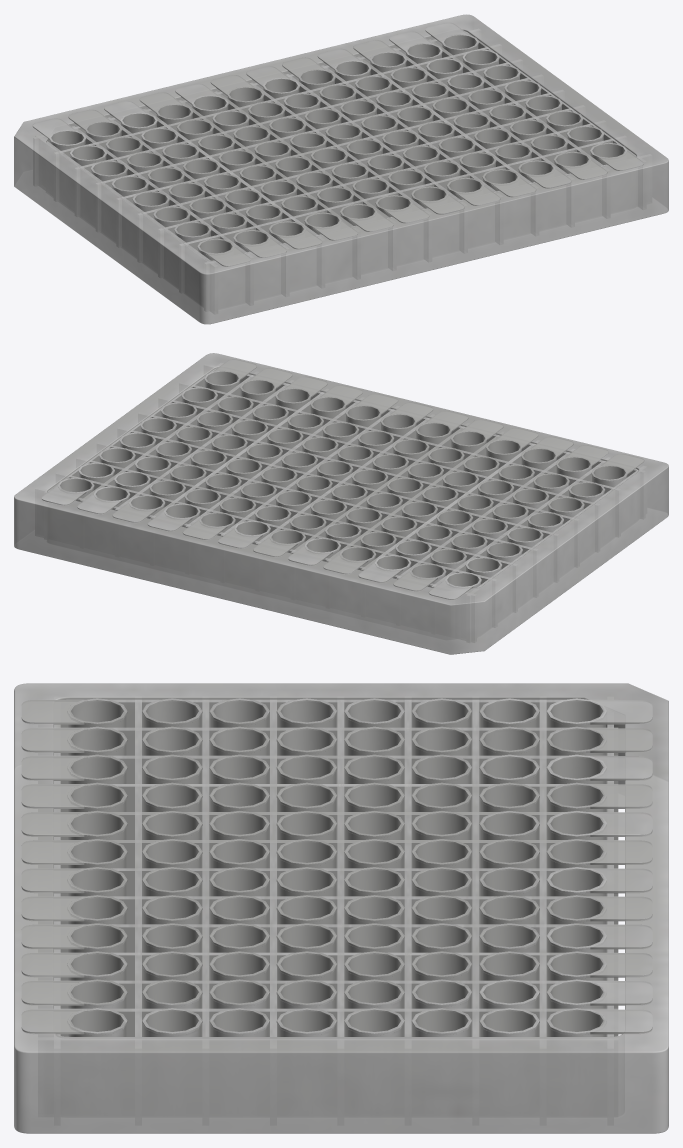
File: 酶标包被板.glb
The picture shows the model from 3 angles, top to bottom: view 1: azimuth 30°, elevation 25°; view 2: azimuth 150°, elevation 25°; view 3: azimuth 270°, elevation 25°; orthographic projection. The views are drawn at different scales.
Visible parts, largest first — view 1: 酶标包被板, Box026, Cylinder208, Cylinder207, Cylinder124, Cylinder204, Cylinder202, Cylinder121, Cylinder128, Cylinder152, Cylinder119, Cylinder125 (+110 smaller); view 2: 酶标包被板, Box026, Cylinder203, Cylinder179, Cylinder123, Cylinder139, Cylinder131, Cylinder147, Cylinder187, Cylinder195, Cylinder155, Cylinder114 (+110 smaller); view 3: 酶标包被板, Box026, Cylinder157, Cylinder153, Cylinder159, Cylinder164, Cylinder165, Cylinder168, Cylinder156, Cylinder160, Cylinder173, Cylinder161 (+110 smaller).
Boxes of the visible parts, x1,y1,x2,y2 form: 酶标包被板: [14, 14, 668, 324]; Box026: [33, 29, 651, 313]; Cylinder208: [566, 125, 604, 146]; Cylinder207: [546, 110, 583, 131]; Cylinder124: [105, 136, 142, 157]; Cylinder204: [462, 49, 499, 70]; Cylinder202: [442, 34, 478, 55]; Cylinder121: [126, 151, 163, 172]; Cylinder128: [210, 212, 247, 233]; Cylinder152: [316, 186, 353, 207]; Cylinder119: [69, 145, 106, 165]; Cylinder125: [147, 167, 184, 187]; 酶标包被板: [14, 353, 668, 654]; Box026: [35, 363, 646, 642]; Cylinder203: [204, 370, 240, 392]; Cylinder179: [310, 396, 346, 418]; Cylinder123: [556, 456, 592, 478]; Cylinder139: [485, 439, 522, 461]; Cylinder131: [521, 447, 557, 469]; Cylinder147: [450, 430, 487, 452]; Cylinder187: [275, 387, 311, 409]; Cylinder195: [239, 379, 276, 401]; Cylinder155: [415, 422, 452, 444]; Cylinder114: [591, 465, 627, 487]; 酶标包被板: [14, 683, 668, 1133]; Box026: [38, 697, 618, 1124]; Cylinder157: [344, 839, 404, 868]; Cylinder153: [411, 839, 471, 868]; Cylinder159: [209, 839, 269, 868]; Cylinder164: [479, 867, 539, 896]; Cylinder165: [344, 867, 404, 896]; Cylinder168: [142, 867, 202, 896]; Cylinder156: [479, 839, 539, 868]; Cylinder160: [142, 839, 202, 868]; Cylinder173: [344, 895, 404, 924]; Cylinder161: [411, 867, 471, 896].
Size of the model in its own units: 0.0206 by 0.00222 by 0.0155.
1 material, 1 textured.
